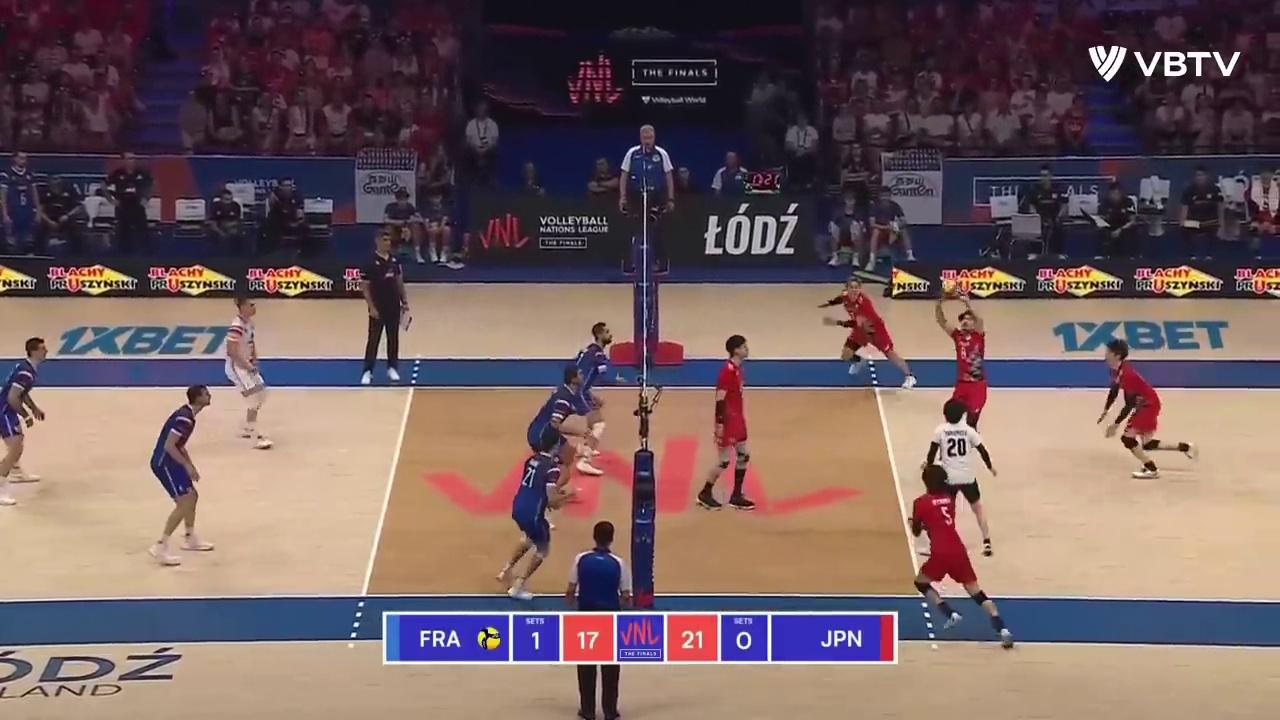ball: (943, 278, 956, 293)
